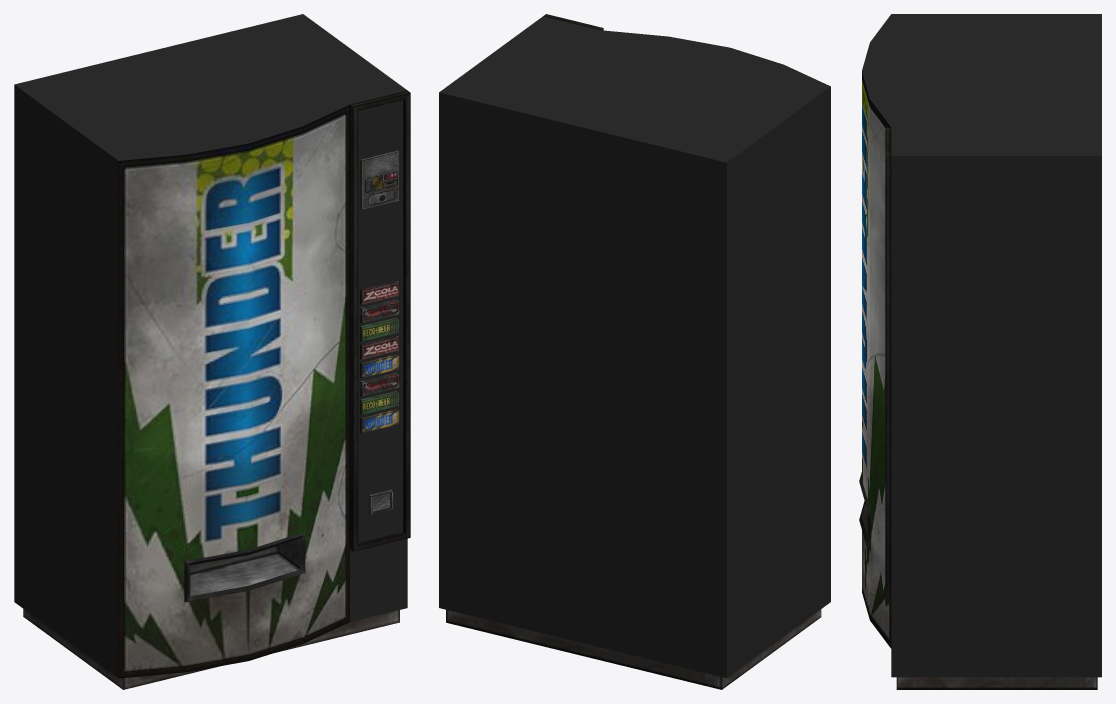
File: maquina.obj
3 views of the same model, side by side, from view 1: azimuth 30°, elevation 25°; view 2: azimuth 150°, elevation 25°; view 3: azimuth 270°, elevation 25° (orthographic).
Visible parts, largest first — view 1: Mesh1 skp8B39_1 Model, Mesh3 skp8B39_1 Model, Mesh4 skp8B39_1 Model, Mesh2 skp8B39_1 Model, Mesh12 skp8B39_1 Model, Mesh6 skp8B39_1 Model, Mesh9 skp8B39_1 Model, Mesh7 skp8B39_1 Model, Mesh10 skp8B39_1 Model, Mesh5 skp8B39_1 Model, Mesh8 skp8B39_1 Model, Mesh11 skp8B39_1 Model; view 2: Mesh1 skp8B39_1 Model, Mesh3 skp8B39_1 Model; view 3: Mesh1 skp8B39_1 Model, Mesh3 skp8B39_1 Model, Mesh2 skp8B39_1 Model.
Boxes of the visible parts, bbox=[...] form: Mesh1 skp8B39_1 Model: bbox=[14, 14, 410, 678]; Mesh3 skp8B39_1 Model: bbox=[23, 609, 399, 689]; Mesh4 skp8B39_1 Model: bbox=[360, 150, 399, 209]; Mesh2 skp8B39_1 Model: bbox=[184, 531, 305, 602]; Mesh12 skp8B39_1 Model: bbox=[360, 408, 399, 433]; Mesh6 skp8B39_1 Model: bbox=[360, 298, 399, 323]; Mesh9 skp8B39_1 Model: bbox=[360, 353, 399, 378]; Mesh7 skp8B39_1 Model: bbox=[360, 317, 399, 341]; Mesh10 skp8B39_1 Model: bbox=[360, 372, 399, 396]; Mesh5 skp8B39_1 Model: bbox=[360, 280, 399, 304]; Mesh8 skp8B39_1 Model: bbox=[360, 335, 399, 359]; Mesh11 skp8B39_1 Model: bbox=[360, 390, 399, 414]; Mesh1 skp8B39_1 Model: bbox=[439, 14, 830, 678]; Mesh3 skp8B39_1 Model: bbox=[446, 609, 821, 689]; Mesh1 skp8B39_1 Model: bbox=[862, 14, 1101, 677]; Mesh3 skp8B39_1 Model: bbox=[896, 677, 1097, 689]; Mesh2 skp8B39_1 Model: bbox=[859, 472, 870, 550].
Size of the model in its own units: 2.51 by 4.42 by 1.81.
Materials: 2 (2 with a texture image).
